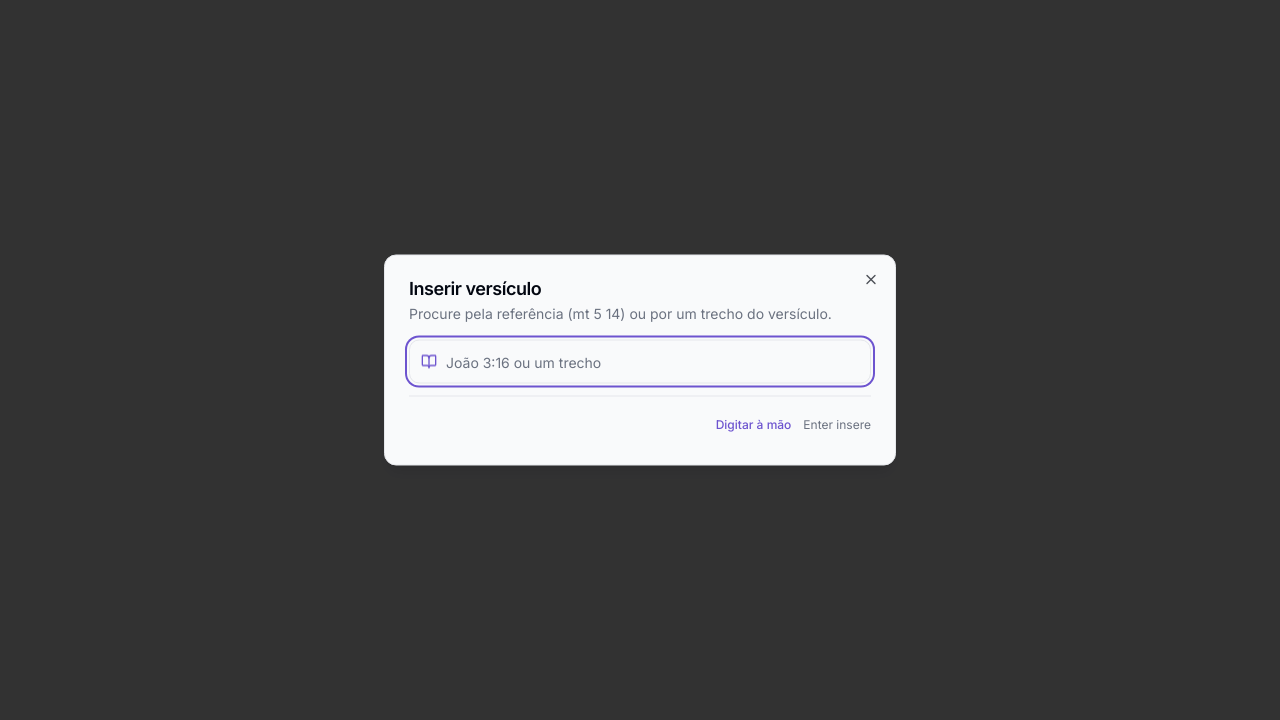
Test: VerseDialog — busca › procura depois da espera e lista os hits com referência e texto ou dica
Type "mt 5 14" into the dropdown named "Referência ou palavras do versículo".
click(640, 362); type("mt 5 14")  # box [409, 340, 871, 384]
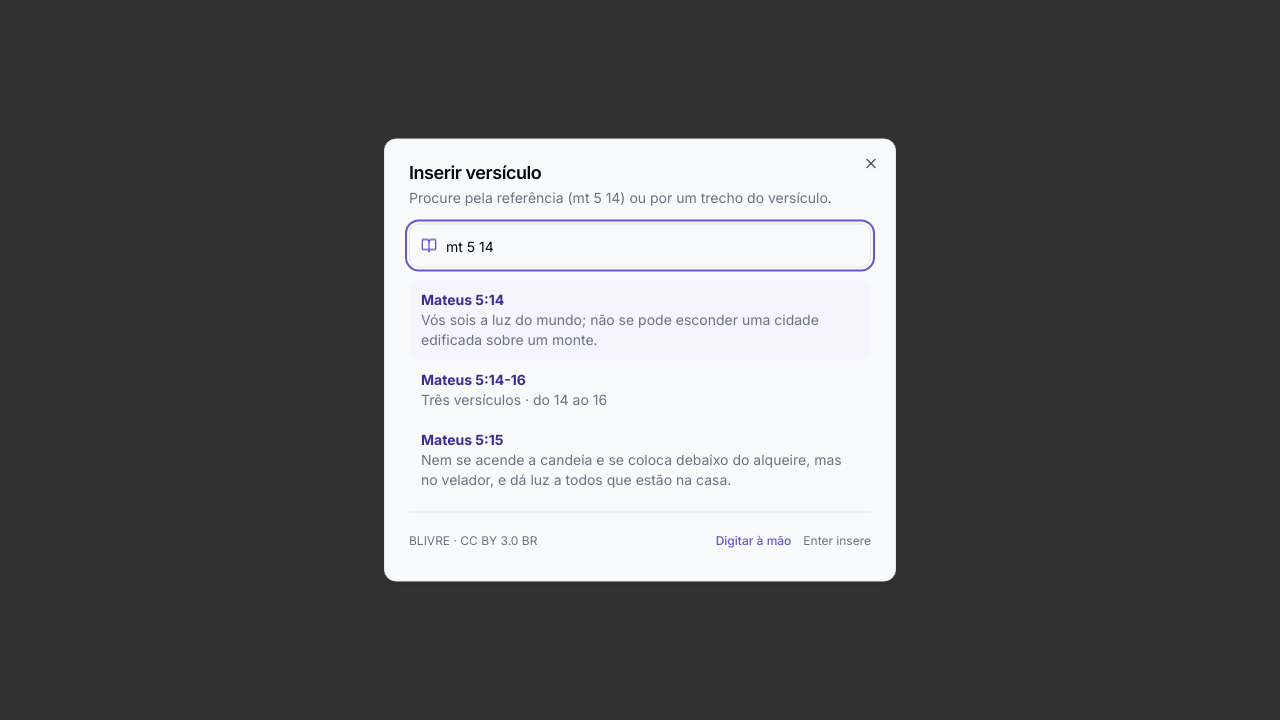
Expected: the number of options is 3, [409, 280, 871, 360]; [421, 370, 607, 408]; [409, 420, 871, 500]
Expected: the 1st option shows "Mateus 5:14", [409, 280, 871, 360]
Expected: the 1st option shows "Vós sois a luz do mundo; não se pode esconder uma cidade edificada sobre um monte.", [409, 280, 871, 360]
